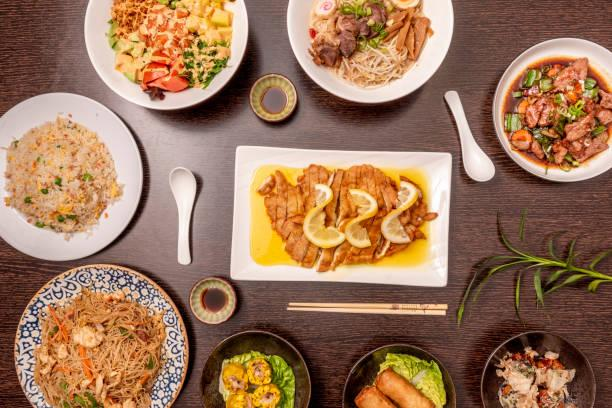Braised Crucian Carp: (230, 144, 451, 287), (13, 264, 188, 407), (2, 91, 144, 261), (83, 1, 244, 112), (286, 0, 455, 105), (491, 37, 609, 181), (479, 331, 596, 405), (199, 330, 310, 407), (341, 342, 459, 406)
